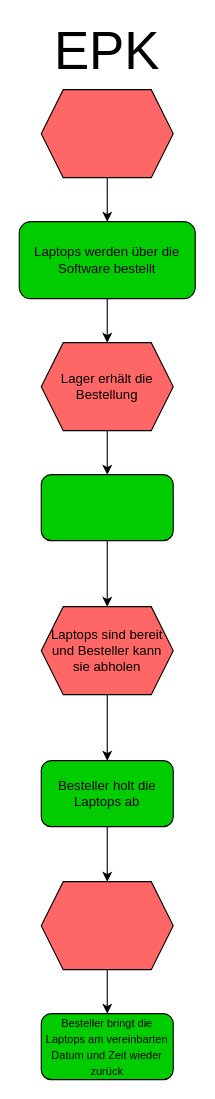
This 215x1099 diagram has some shape labels left out. Each missing label, with the box of its shape:
Laptops sind in Verwendung: (40, 881, 173, 970)
Laptops werden benötigt: (40, 89, 173, 178)
Mitarbeiter vom Lager verarbeiten die Bestellung: (40, 474, 173, 541)
